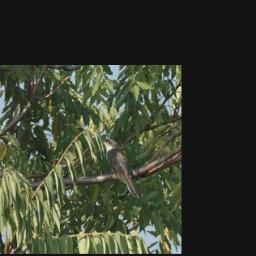Cuckoo: (101, 137, 143, 200)
